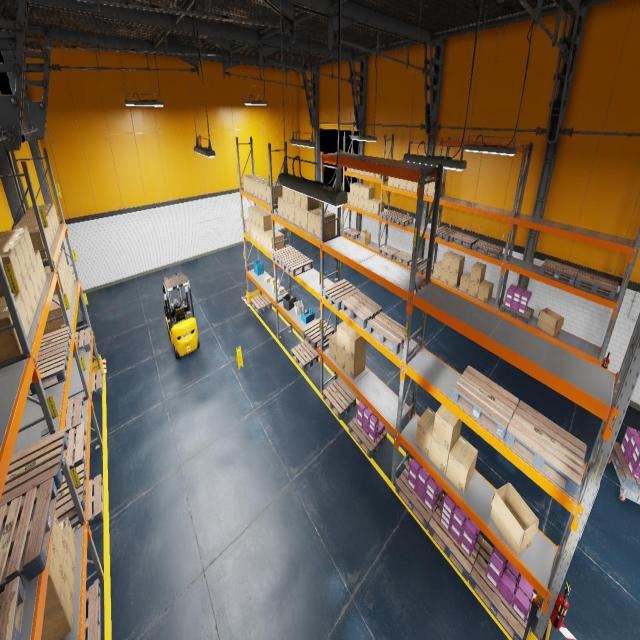box: (490, 482, 539, 556), (41, 572, 73, 640), (446, 435, 478, 494), (44, 542, 63, 617), (0, 292, 31, 337), (433, 404, 462, 452), (0, 227, 36, 264), (0, 233, 33, 272), (0, 305, 22, 362), (0, 248, 25, 297), (430, 435, 460, 475), (0, 240, 29, 281), (15, 218, 53, 245), (415, 407, 435, 458), (19, 213, 54, 240), (14, 223, 51, 248), (22, 210, 56, 236), (59, 517, 76, 567), (43, 300, 66, 335), (25, 207, 58, 231), (537, 308, 564, 337), (28, 203, 59, 227), (52, 515, 65, 569), (345, 328, 366, 361), (344, 351, 366, 379), (44, 265, 65, 294), (20, 282, 34, 325), (64, 542, 75, 596), (28, 227, 47, 258), (44, 259, 66, 285), (316, 211, 336, 239), (25, 273, 38, 313), (308, 208, 327, 235), (51, 292, 70, 318), (337, 322, 352, 352), (29, 265, 41, 302), (34, 250, 46, 285), (33, 257, 44, 293), (477, 280, 494, 303), (470, 261, 486, 284), (266, 183, 282, 204), (268, 232, 284, 252), (301, 194, 319, 211), (264, 229, 279, 249), (259, 212, 274, 231), (262, 182, 276, 202), (450, 254, 464, 274), (468, 280, 483, 298), (256, 209, 270, 228), (442, 251, 456, 270), (254, 178, 267, 198), (448, 271, 463, 288), (427, 180, 442, 197), (250, 177, 264, 195), (459, 272, 471, 293), (58, 254, 68, 279), (252, 207, 265, 226), (329, 332, 337, 362), (243, 174, 256, 192), (248, 205, 261, 223), (247, 176, 260, 193), (257, 180, 268, 199), (337, 344, 345, 370), (59, 250, 68, 273), (433, 261, 442, 280), (440, 268, 450, 284), (301, 209, 308, 231), (360, 230, 371, 244), (373, 200, 384, 214), (368, 198, 379, 212), (64, 287, 70, 312), (66, 280, 72, 305), (364, 186, 374, 200), (68, 264, 74, 287), (295, 205, 301, 228), (424, 178, 432, 195), (359, 185, 369, 198), (350, 182, 360, 195), (288, 203, 294, 224), (67, 275, 72, 299), (283, 200, 289, 220), (354, 184, 364, 196), (294, 191, 301, 207), (68, 270, 73, 292), (278, 196, 283, 218), (288, 188, 294, 204), (406, 180, 414, 192), (260, 230, 265, 247), (252, 224, 257, 240), (400, 179, 407, 190), (283, 187, 288, 202), (256, 226, 260, 243), (272, 278, 280, 286), (246, 218, 250, 234), (249, 222, 253, 237), (363, 199, 368, 211), (354, 196, 359, 208), (394, 178, 400, 188), (388, 176, 394, 186), (350, 194, 354, 207), (272, 285, 279, 292), (278, 286, 284, 294), (264, 276, 272, 282), (359, 198, 363, 210), (346, 192, 350, 204), (270, 278, 277, 284), (376, 174, 386, 178), (413, 182, 417, 192), (365, 171, 370, 176), (370, 173, 375, 177), (360, 170, 365, 174), (351, 168, 355, 172), (355, 170, 360, 173), (346, 168, 351, 171)
forklift: (162, 273, 199, 359)
pallets: (504, 400, 587, 498), (0, 478, 58, 593), (469, 540, 533, 640), (0, 428, 68, 522), (451, 365, 519, 440), (428, 495, 483, 581), (395, 459, 443, 529), (28, 346, 69, 396), (55, 463, 86, 522), (367, 312, 410, 354), (73, 474, 104, 532), (0, 576, 26, 639), (348, 415, 386, 458), (342, 292, 382, 328), (322, 378, 356, 420), (60, 423, 87, 475), (611, 442, 640, 490), (574, 270, 618, 300), (322, 279, 360, 311), (37, 326, 72, 357), (302, 318, 334, 350), (540, 259, 579, 285), (85, 582, 100, 640), (291, 340, 318, 371), (65, 394, 84, 436), (500, 301, 534, 324), (282, 253, 312, 277), (272, 246, 300, 267), (72, 327, 91, 357), (473, 240, 503, 259), (449, 232, 478, 249), (250, 294, 272, 313), (91, 368, 103, 398), (436, 226, 458, 242), (378, 245, 399, 259), (408, 258, 426, 274), (393, 251, 412, 266), (392, 214, 413, 226), (380, 210, 400, 222), (344, 228, 361, 240), (414, 289, 419, 294)
